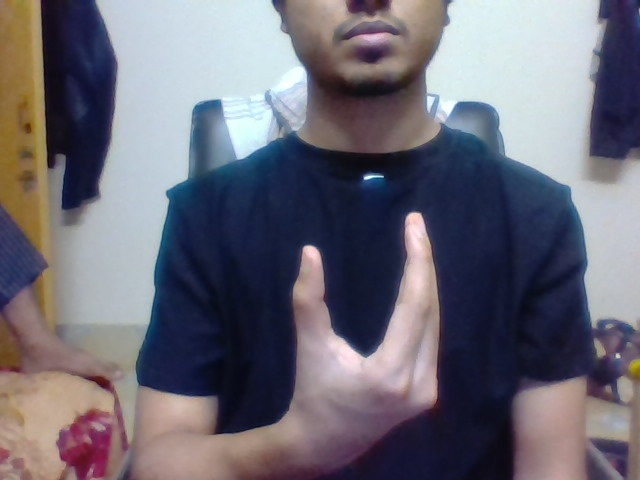U: (270, 202, 460, 371)
